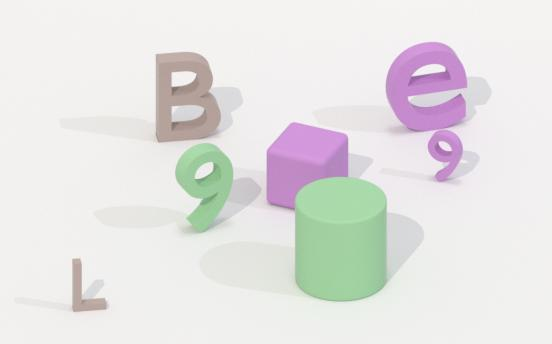chu_khoi: (386, 42, 466, 130), (156, 52, 220, 141), (72, 258, 106, 311)
lap_phuong: (267, 123, 348, 208)
so_khoi: (175, 143, 232, 231), (428, 130, 462, 181)
tru: (295, 177, 386, 300)
